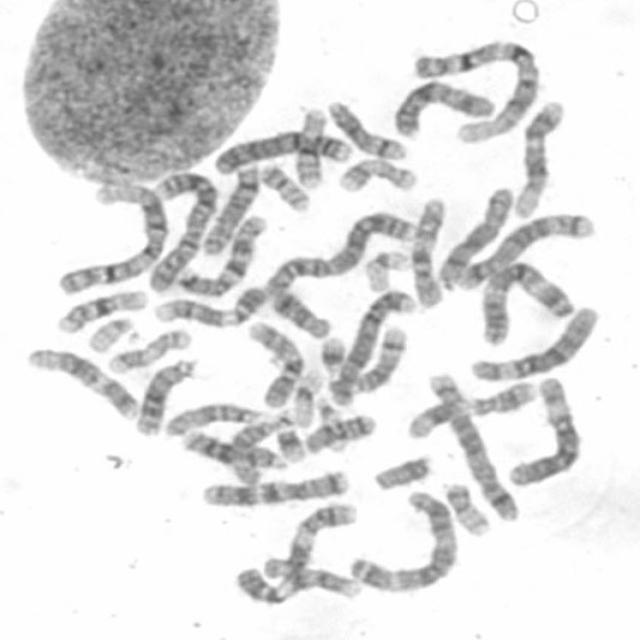A1: (404, 31, 546, 145), (48, 174, 173, 296)
A2: (260, 203, 418, 339), (142, 164, 222, 296)
A3: (342, 481, 462, 594), (473, 252, 578, 346)
B4: (323, 280, 419, 408), (206, 123, 358, 176)
B5: (420, 363, 524, 523), (446, 203, 599, 291)
C10: (240, 314, 308, 409), (405, 190, 450, 309)
C11: (400, 373, 540, 441), (235, 560, 364, 608)
C12: (19, 339, 142, 421), (507, 92, 569, 219)
C6: (462, 298, 604, 382), (499, 368, 585, 489)
C7: (167, 208, 270, 298), (195, 462, 353, 508)
C8: (431, 178, 516, 291), (195, 156, 264, 256)
C9: (258, 494, 360, 585), (146, 279, 269, 328)
D13: (128, 350, 200, 437), (175, 422, 292, 471)
D14: (319, 91, 411, 162), (347, 318, 411, 394)
D15: (157, 395, 264, 438), (224, 412, 282, 486)
E16: (51, 282, 150, 334), (288, 99, 330, 190)
E17: (101, 320, 194, 375), (332, 150, 421, 194)
E18: (262, 280, 336, 340), (297, 407, 378, 455)
F19: (357, 242, 413, 293), (287, 361, 328, 427)
F20: (436, 475, 495, 538), (252, 154, 315, 212)
G21: (269, 415, 309, 464), (314, 328, 349, 374)
G22: (80, 310, 137, 354), (308, 390, 344, 424)
X: (387, 73, 498, 140)
Y: (366, 446, 435, 492)
